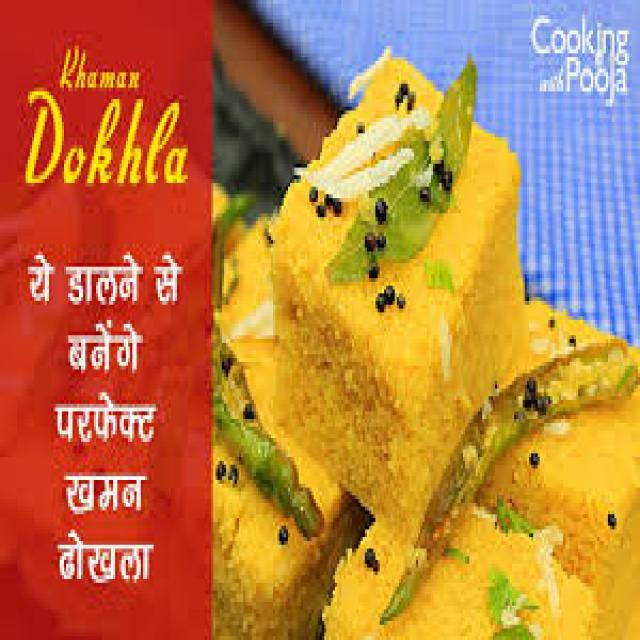DHOKLA: (270, 52, 525, 537), (316, 299, 638, 636)
